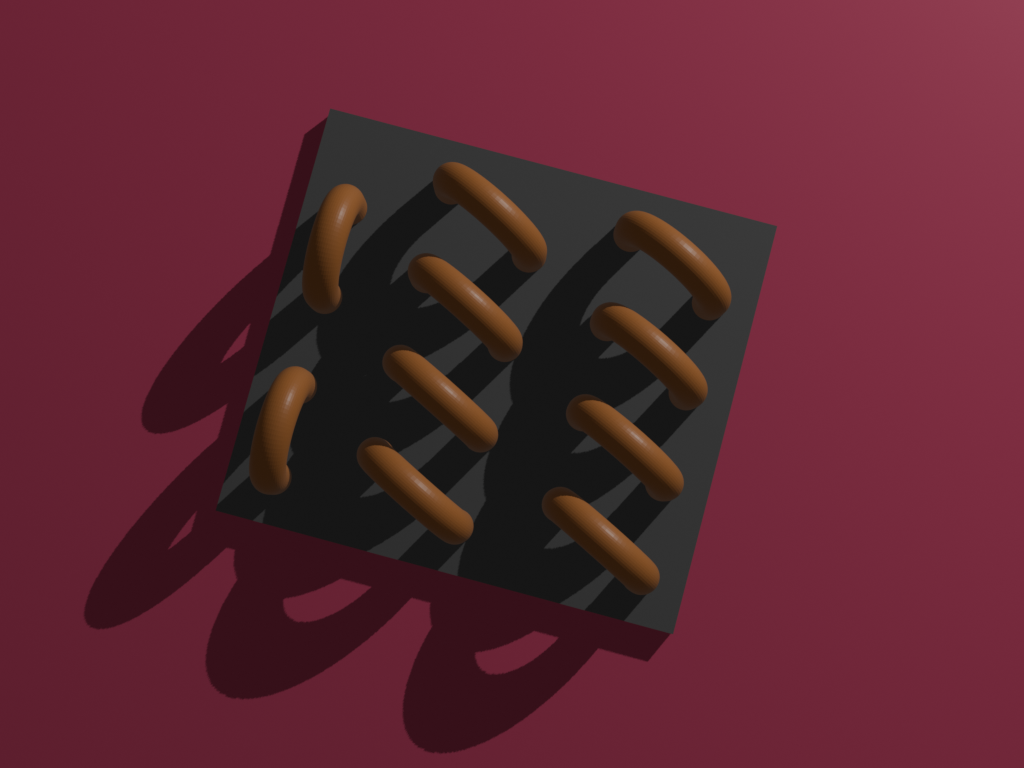return-bend: (331, 413, 496, 570), (409, 136, 573, 293), (383, 225, 547, 382), (359, 321, 523, 478), (567, 273, 731, 430), (541, 366, 705, 523), (521, 467, 685, 624), (597, 185, 761, 341), (280, 160, 387, 332), (232, 333, 338, 506)
